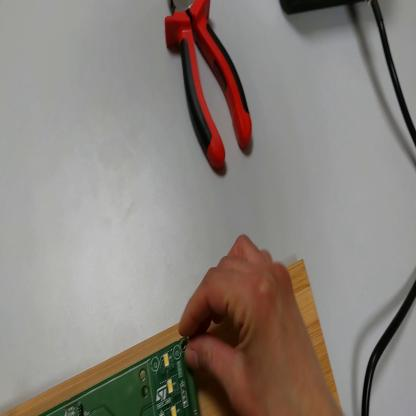hand: (180, 237, 333, 414)
low voltage board: (41, 338, 200, 416)
pliers: (160, 3, 254, 171)
welder station: (282, 3, 368, 17)
working area: (2, 259, 340, 416)
